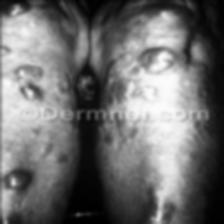Toxin: (128, 44, 172, 101), (11, 61, 45, 102), (140, 199, 178, 224), (0, 166, 32, 190), (0, 0, 31, 16), (0, 41, 11, 60), (0, 216, 25, 224)
